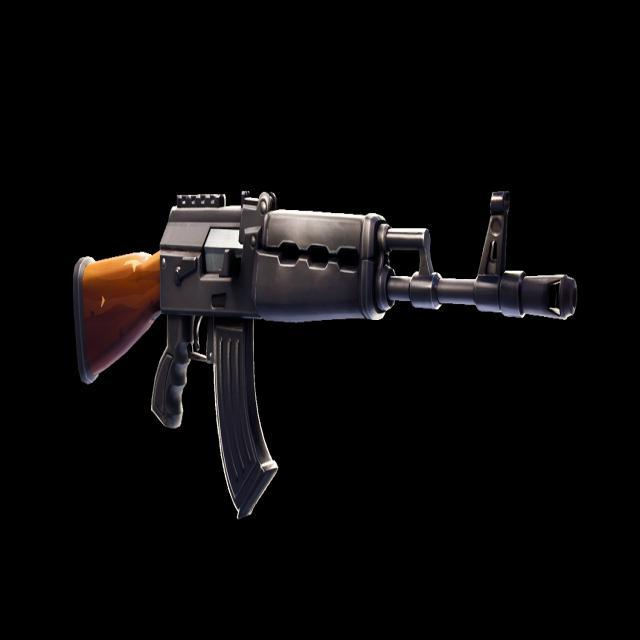weapon: (70, 181, 588, 524)
